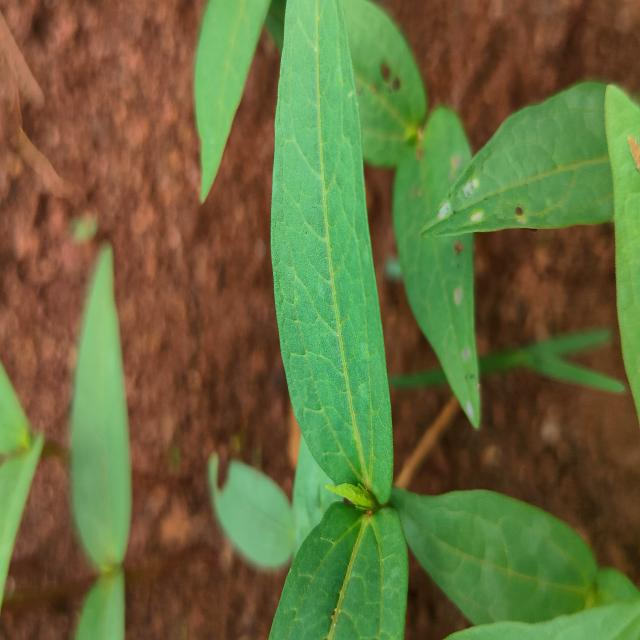Black gram_healthy: (268, 0, 393, 506), (416, 77, 640, 233), (386, 101, 485, 426), (399, 489, 596, 624), (267, 500, 407, 640), (194, 0, 268, 198)
